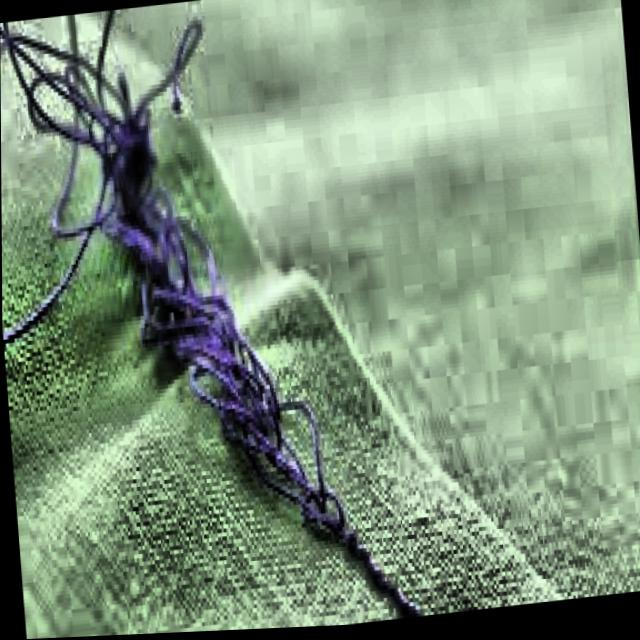Stitch: (0, 0, 356, 559)
